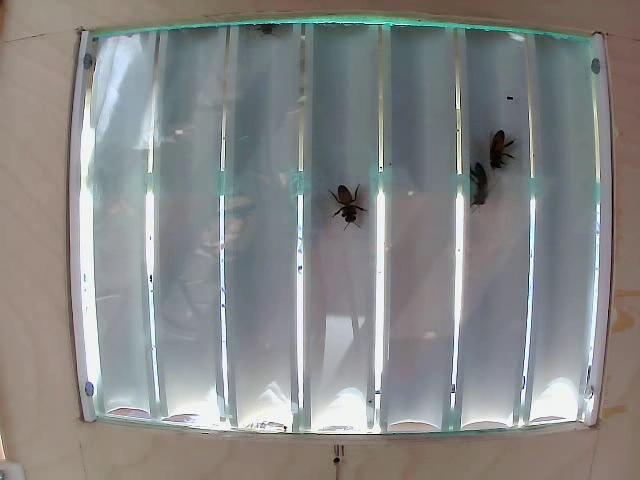bee: (323, 181, 368, 221), (455, 172, 489, 217), (491, 125, 515, 164)
